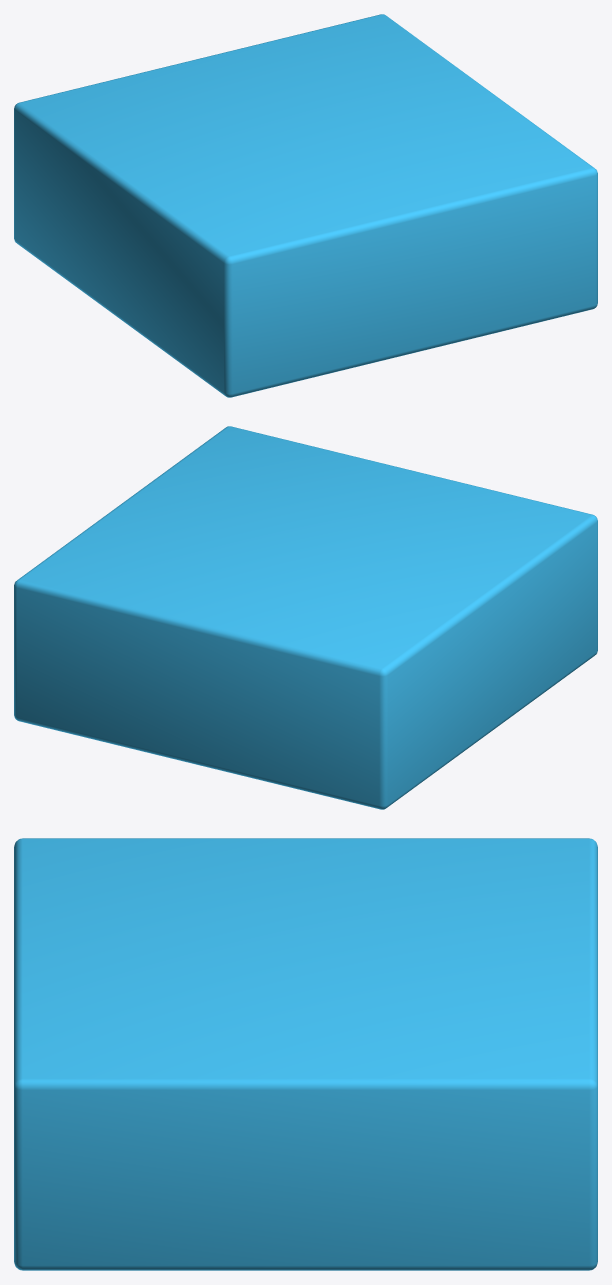
The picture shows the model from 3 angles, top to bottom: view 1: azimuth 30°, elevation 25°; view 2: azimuth 150°, elevation 25°; view 3: azimuth 270°, elevation 25°; orthographic projection. The views are drawn at different scales.
Size of the model in its own units: 110 by 39.89 by 110.
